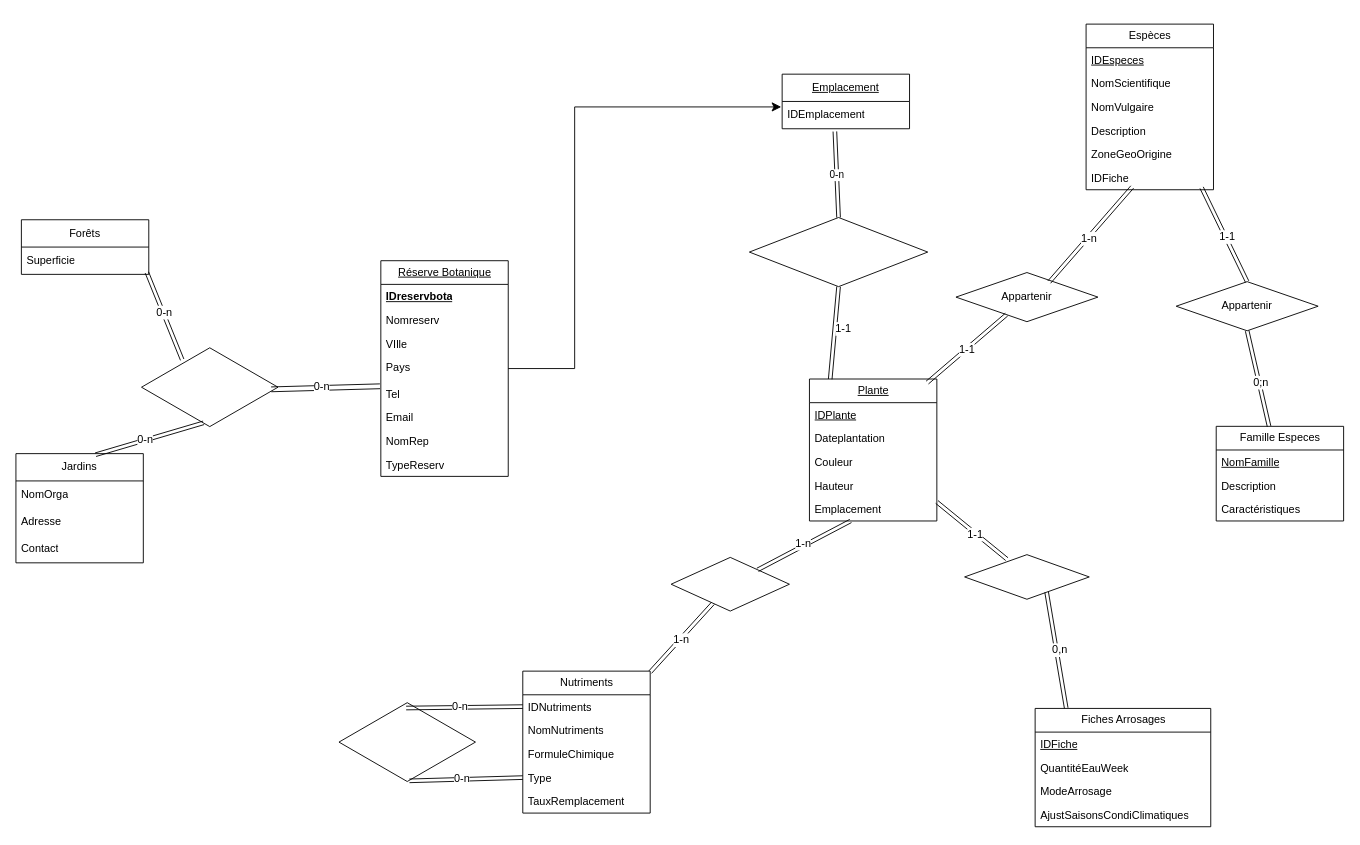
Image size: 1360x845. Some labels were removed from this diagram. The centre of each missing label's shape, as x and y in pixels:
Associer: the point at 838,252
IS A: the point at 209,386
lier: the point at 1026,576
nourir: the point at 729,583
Rempalcer: the point at 406,741
